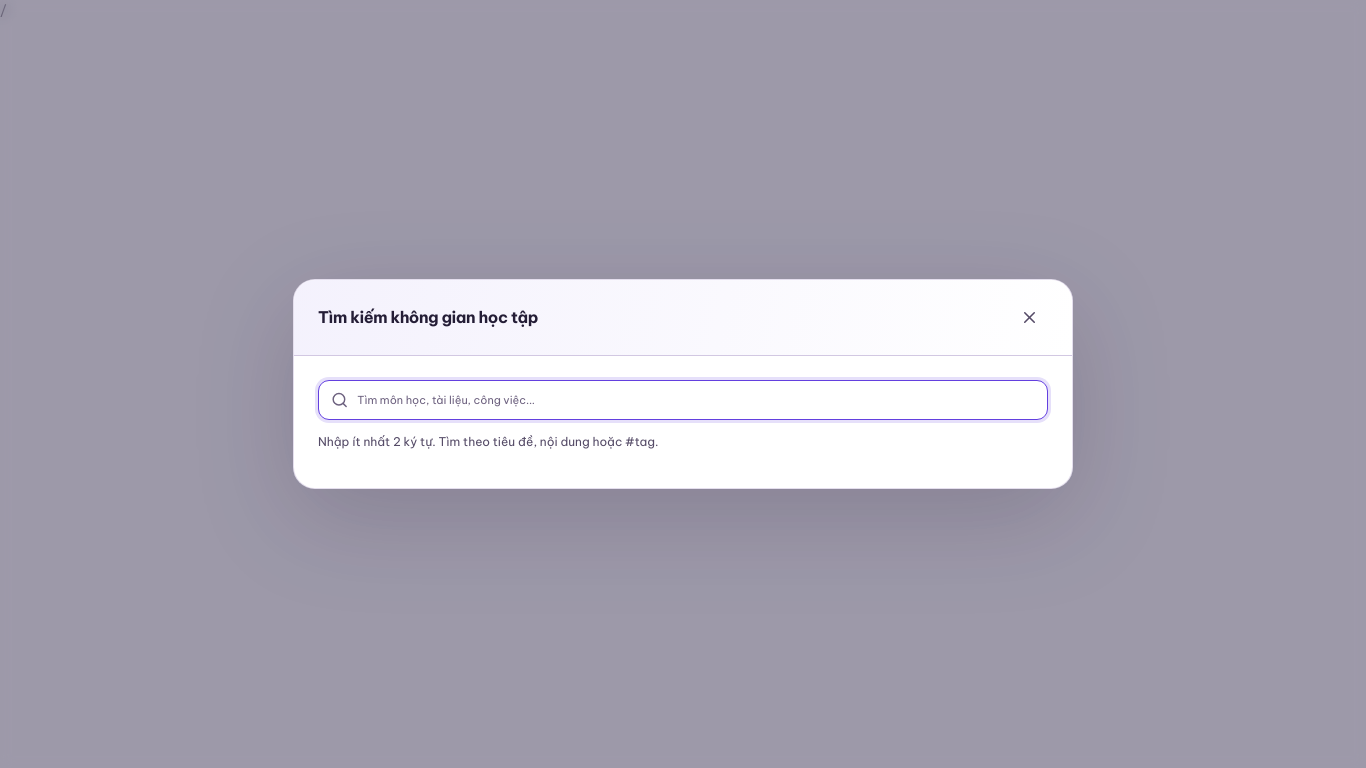
Test case: Workspace navigation › hides an old result as soon as the query changes
Step 1. Type "first" into the field named "Tìm kiếm toàn bộ" → [696, 400], box [357, 382, 1035, 419]
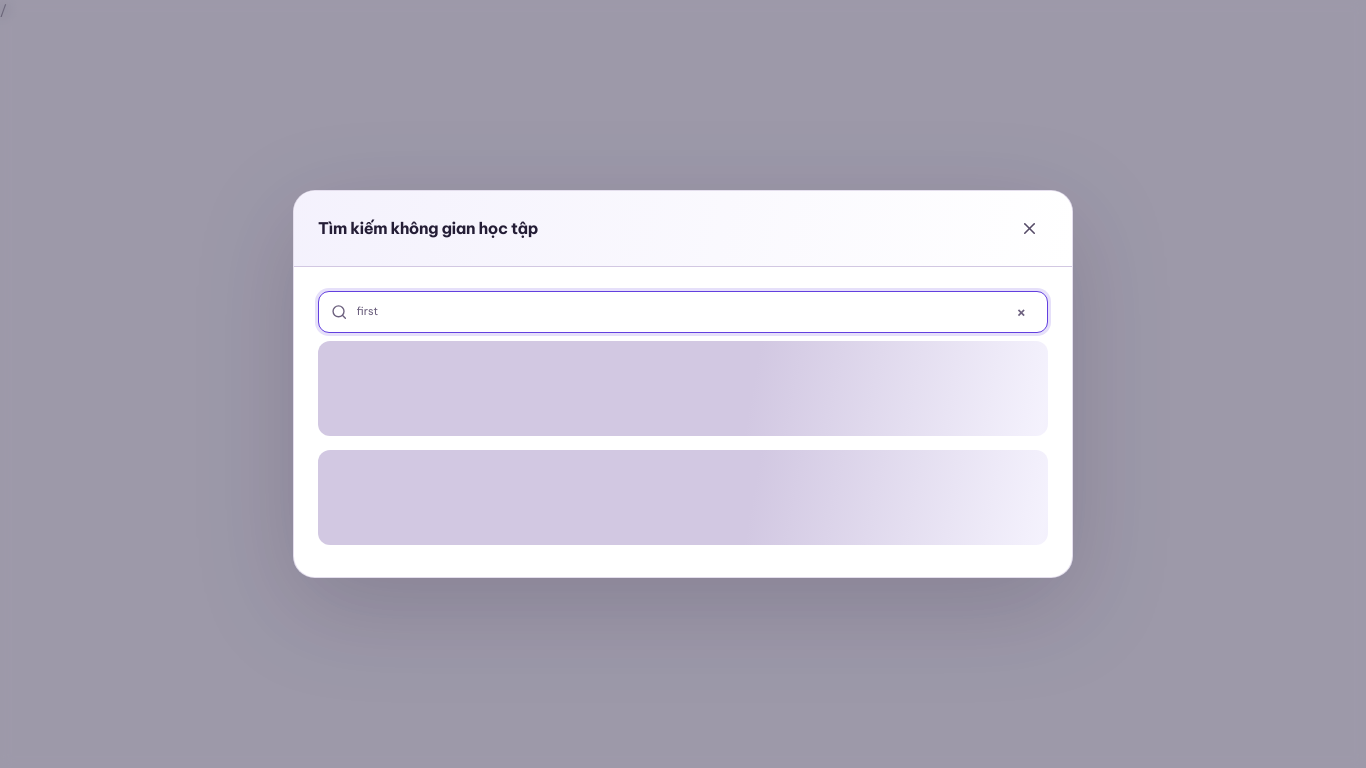
Step 2. Replace the text in the field named "Tìm kiếm toàn bộ" with "second" → [677, 312], box [356, 293, 998, 331]
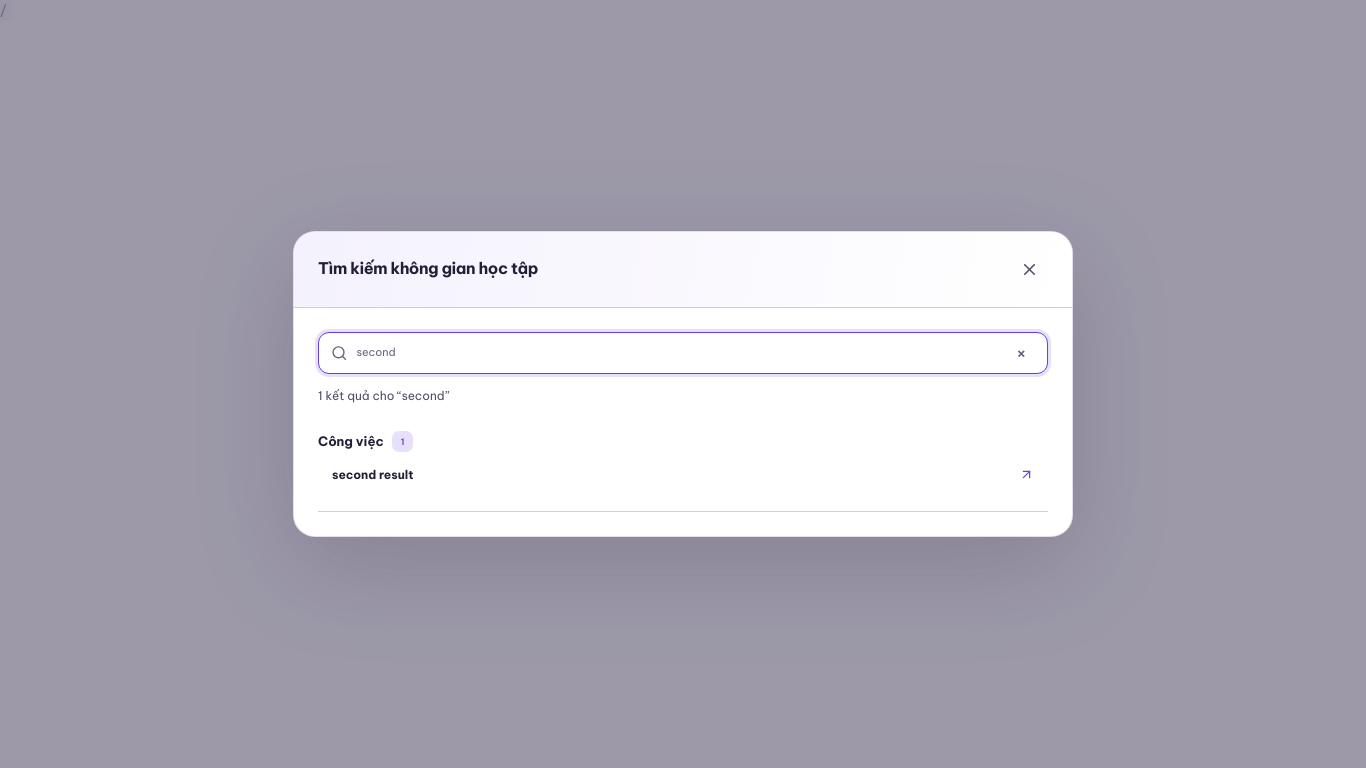
Now the text "second result" is shown, box [332, 467, 414, 482]
